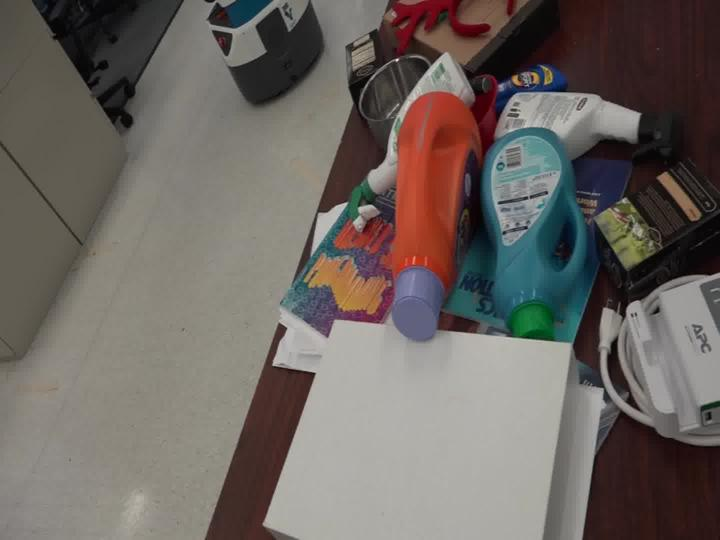tide: (382, 75, 491, 345)
